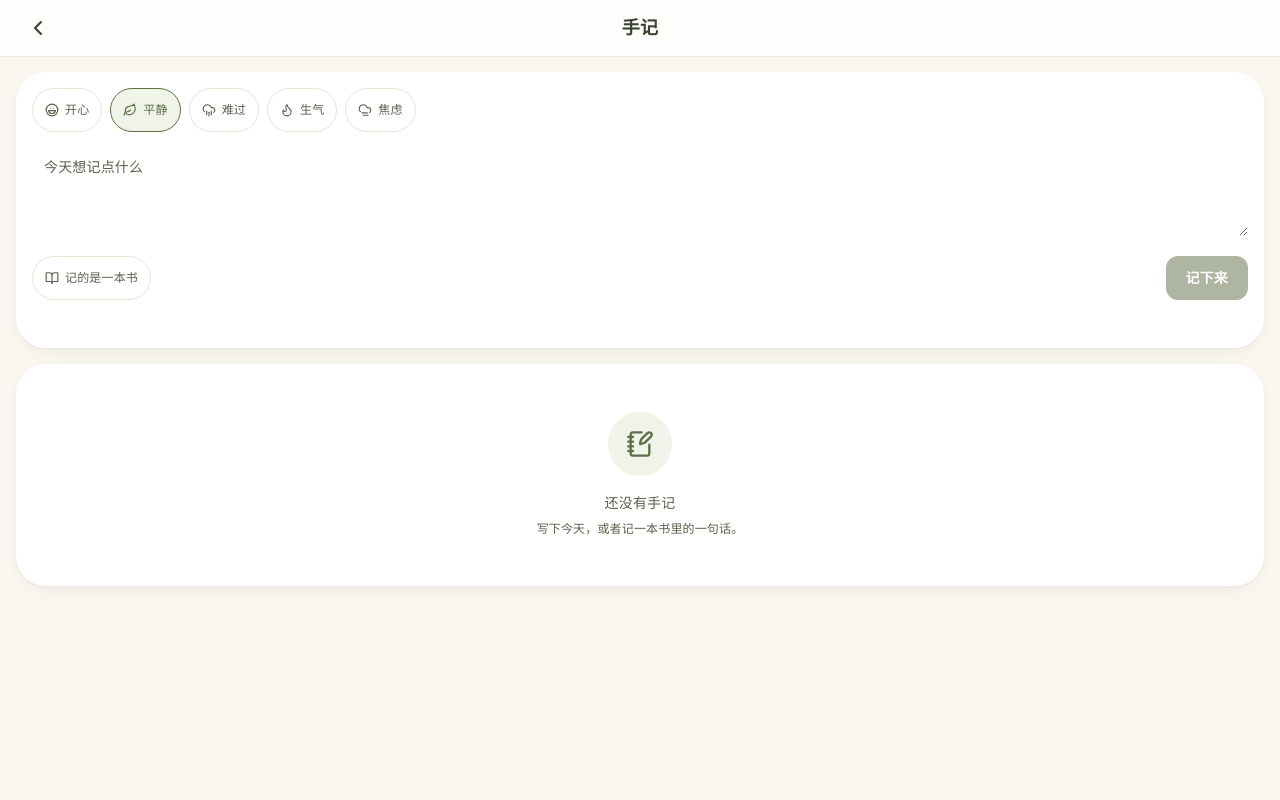
Test: 手记 › 写一段话就是今天的日记，带上选的心情
Expected: the text "还没有手记" is shown, left=605, top=494, right=675, bottom=511
Click the button "难过": click(224, 110) left=189, top=88, right=259, bottom=132
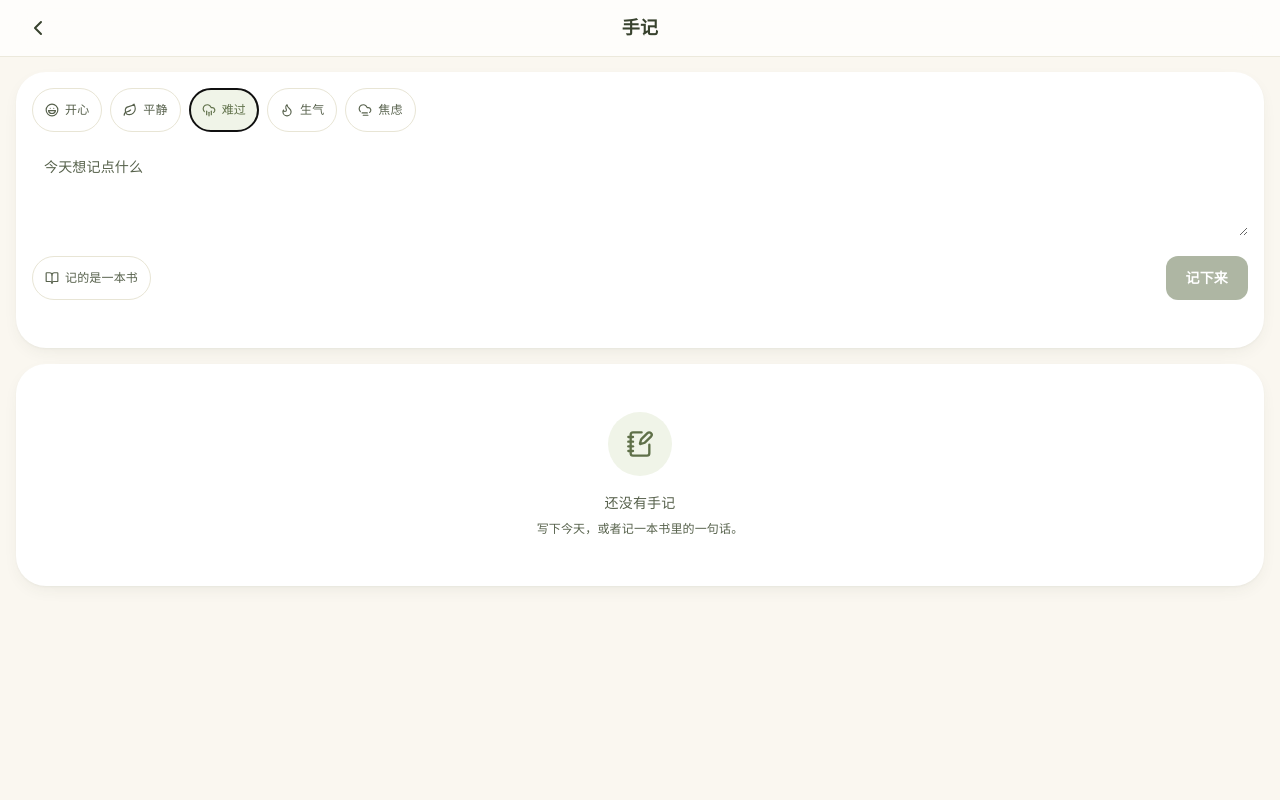
In the text box named "手记内容": (640, 190) left=32, top=144, right=1248, bottom=236, type "有点累"
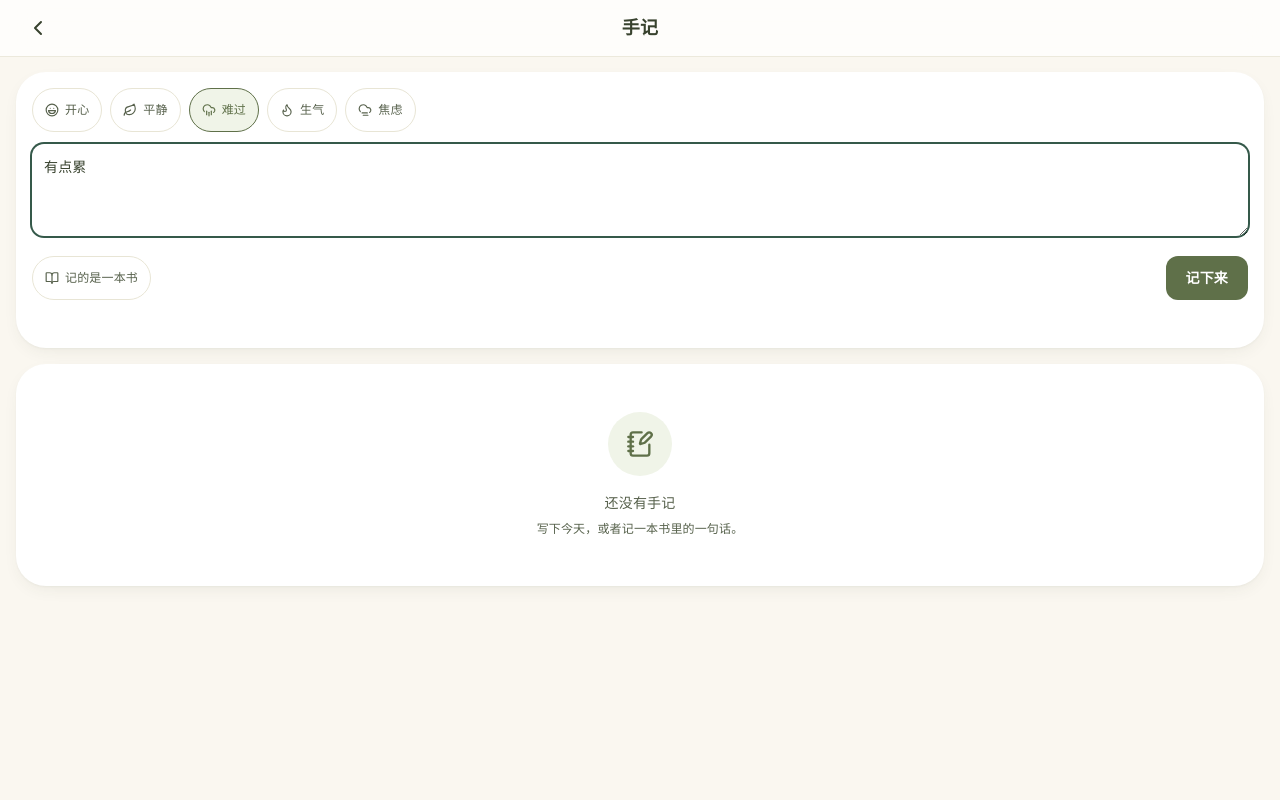
Click the button "记下来": click(1207, 278) left=1166, top=256, right=1248, bottom=300
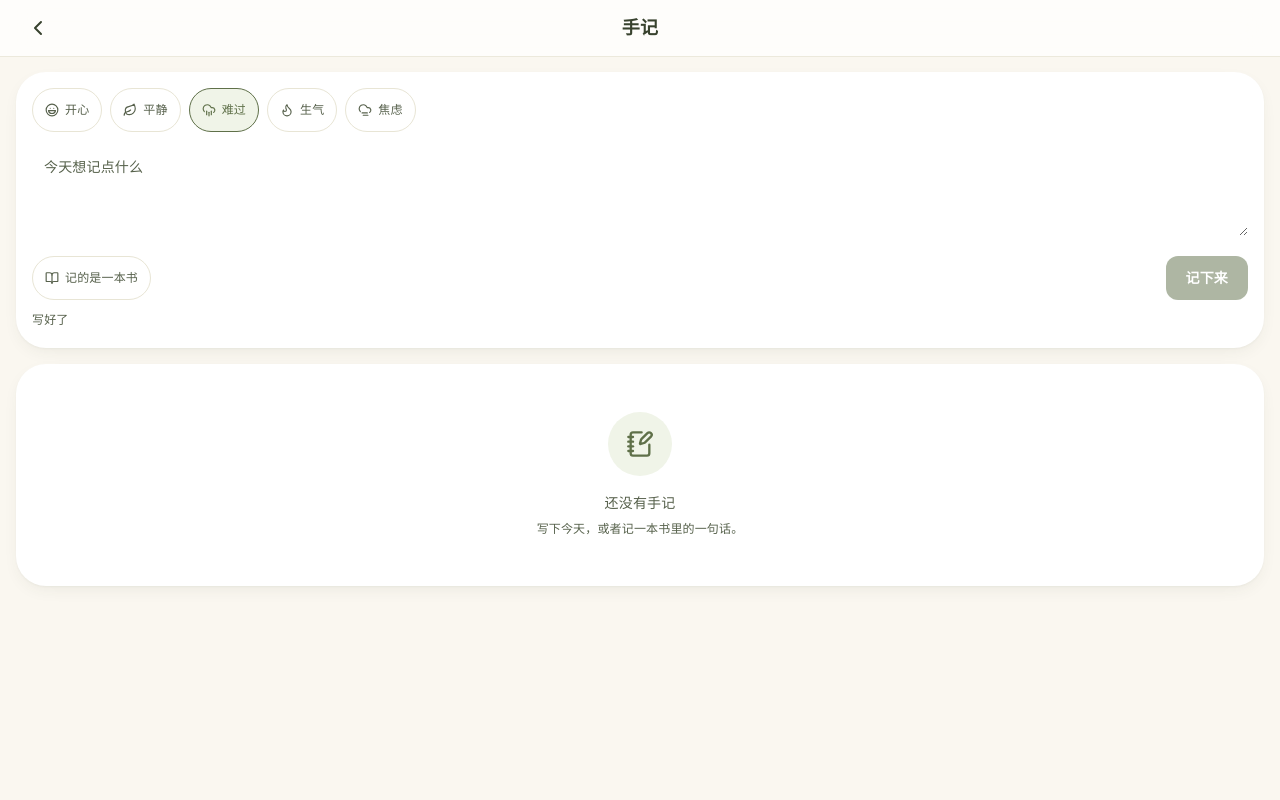
Result: the text "写好了" is shown at left=32, top=312, right=68, bottom=327
Result: the text box named "手记内容" is empty at left=32, top=144, right=1248, bottom=236
